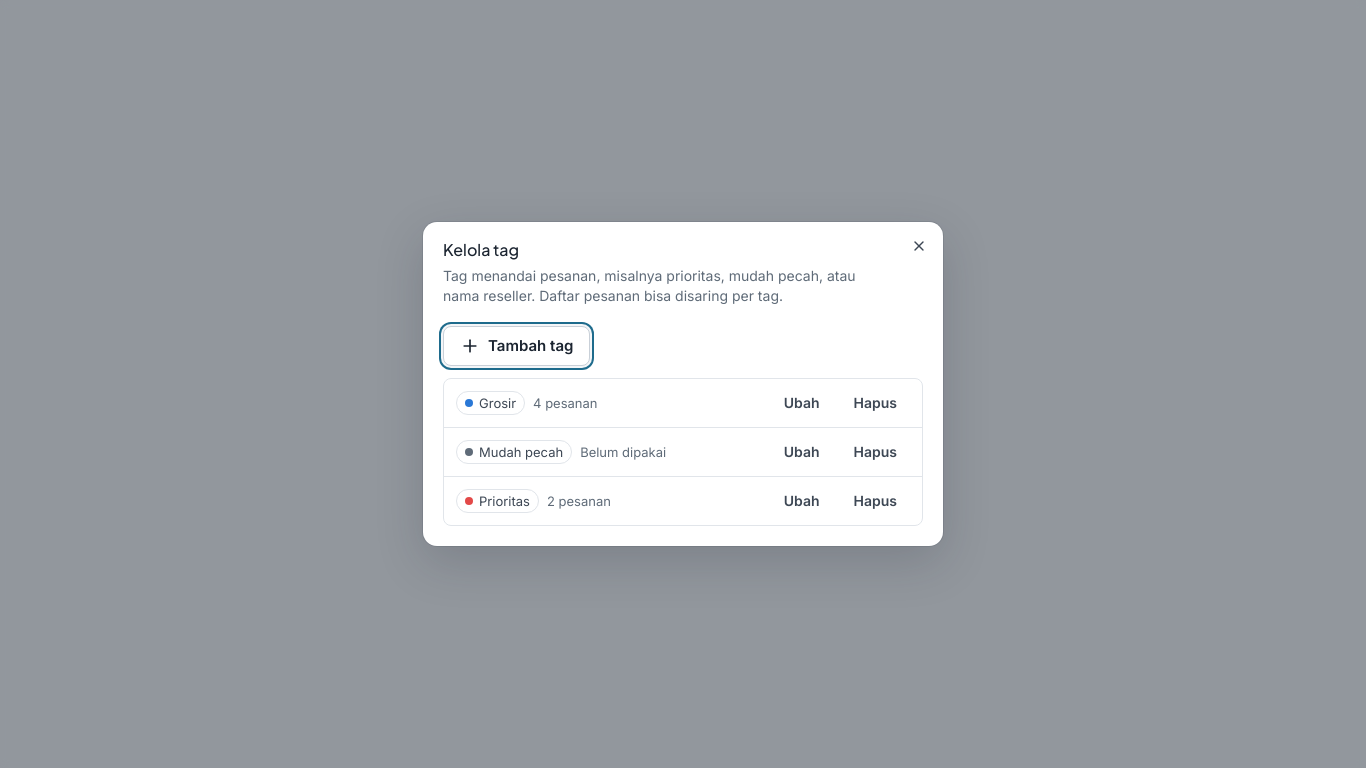
Test: Kelola tag › saves only what changed of a tag, and shows the api's refusal under the name
Expected: the text "Prioritas" is shown, [479, 492, 530, 510]
Click the button with aria-label "Ubah tag Prioritas" at (802, 501), box [771, 485, 832, 517]
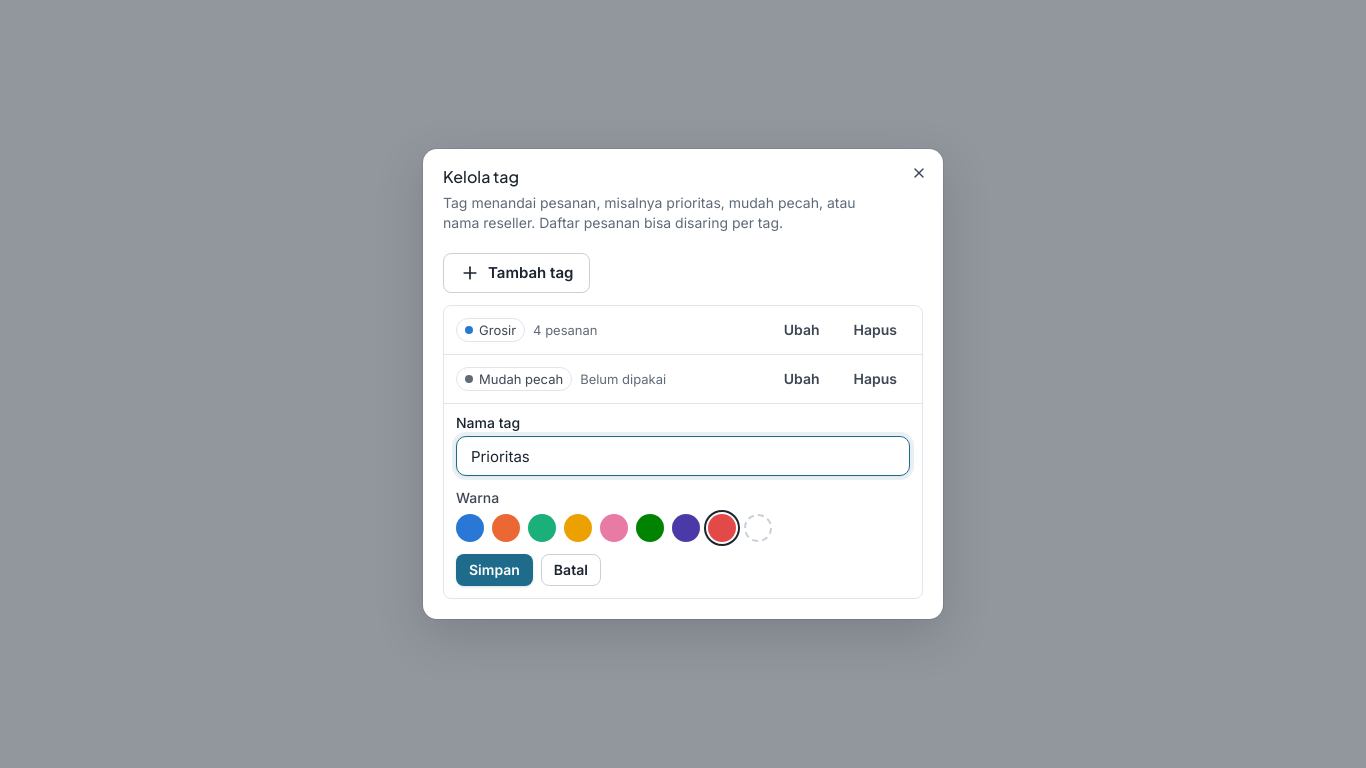
Click the radio button named "Tanpa warna" at (758, 528), box [744, 514, 772, 542]
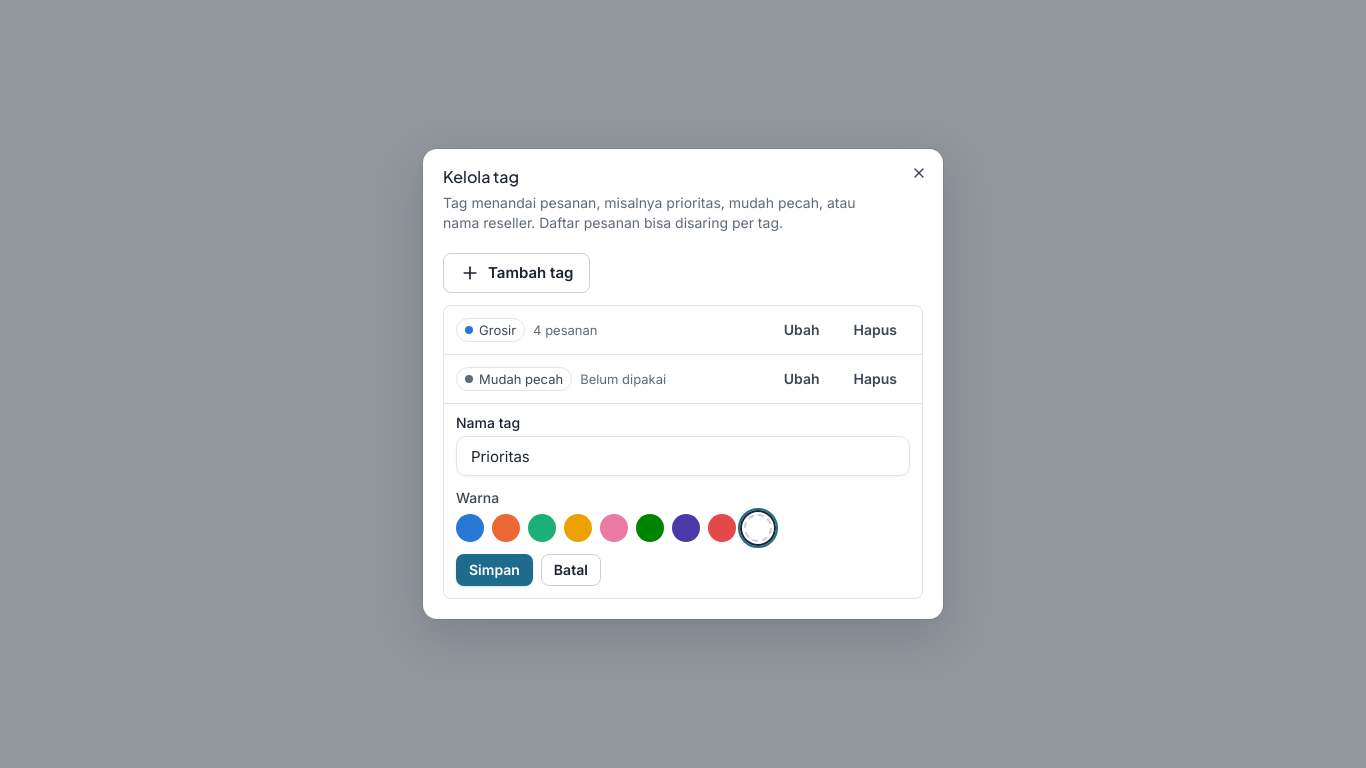
Click the button "Simpan" at (494, 570), box [456, 554, 533, 586]
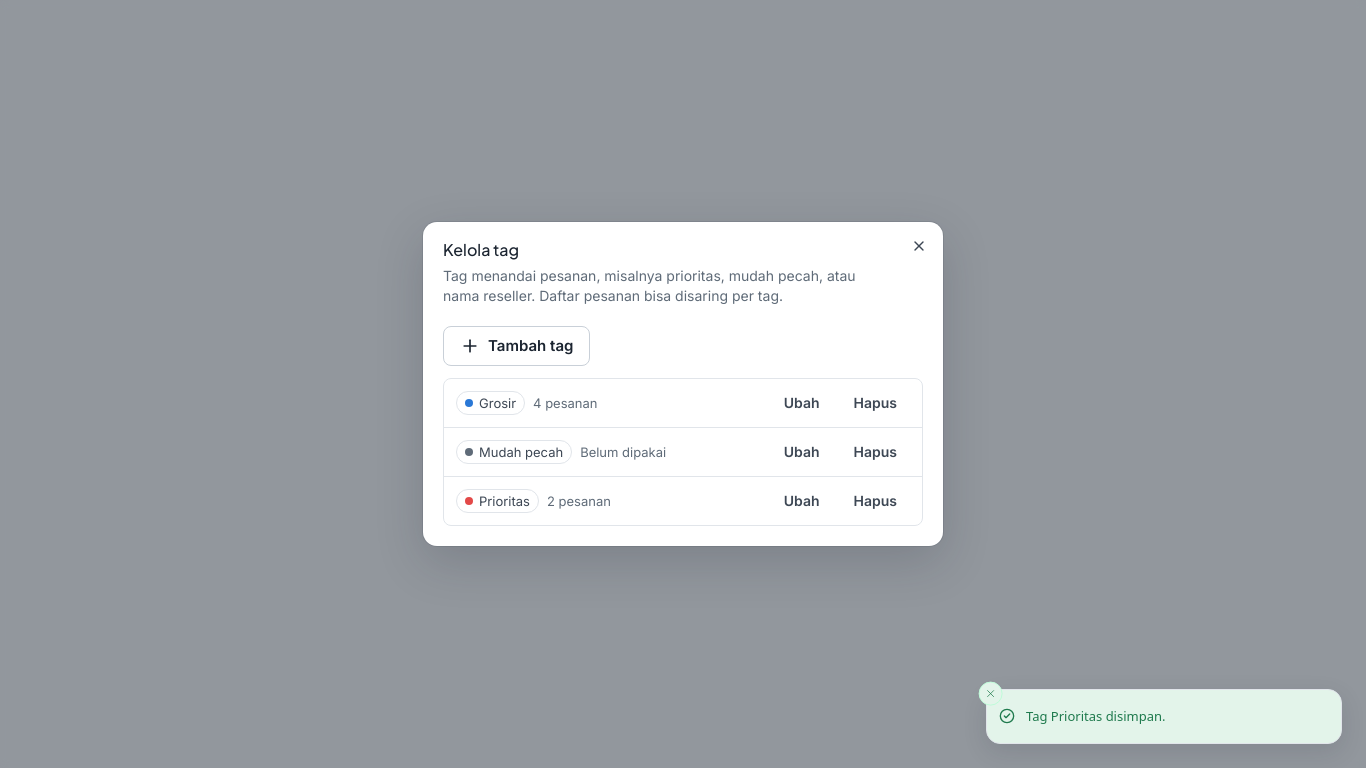
Click the button with aria-label "Ubah tag Prioritas" at (802, 501), box [771, 485, 832, 517]
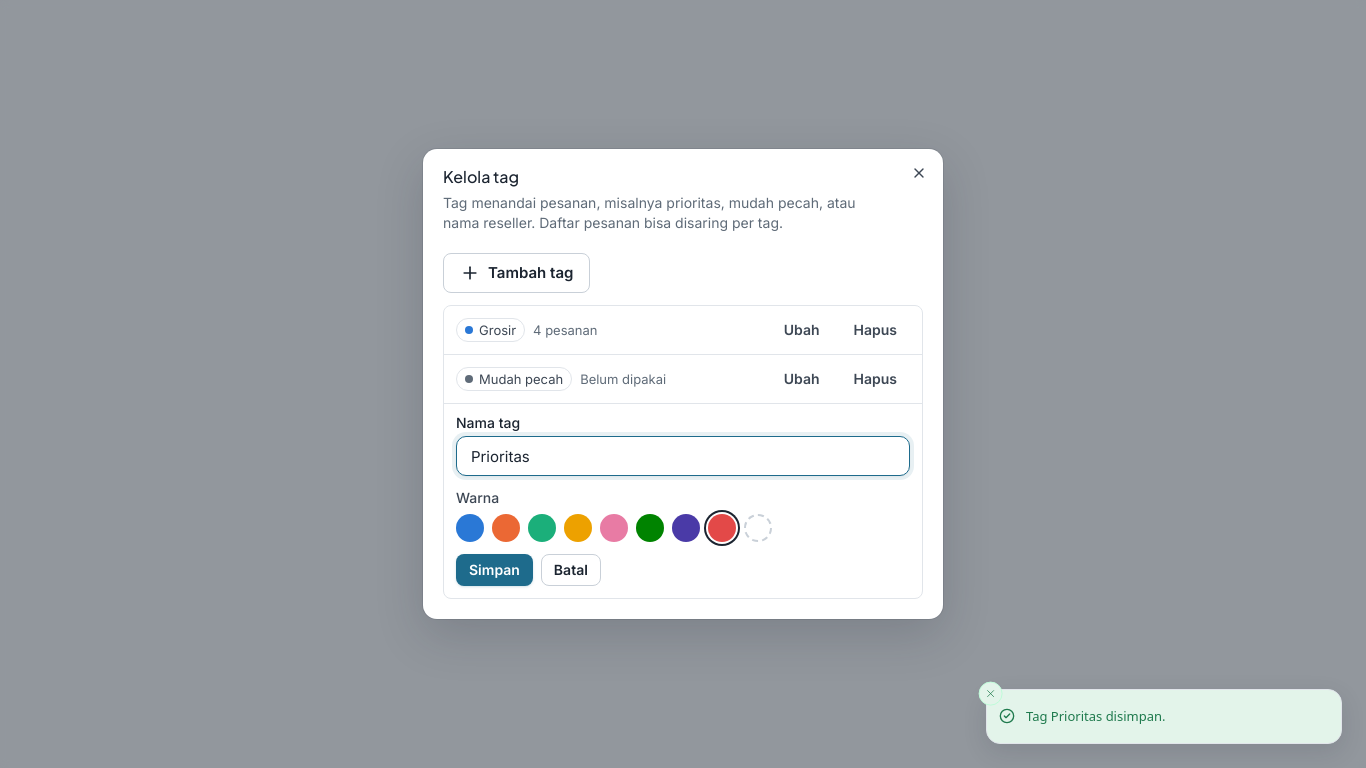
Replace the text in the field labelled "Nama tag" with "Kilat" at (683, 456), box [456, 436, 910, 476]
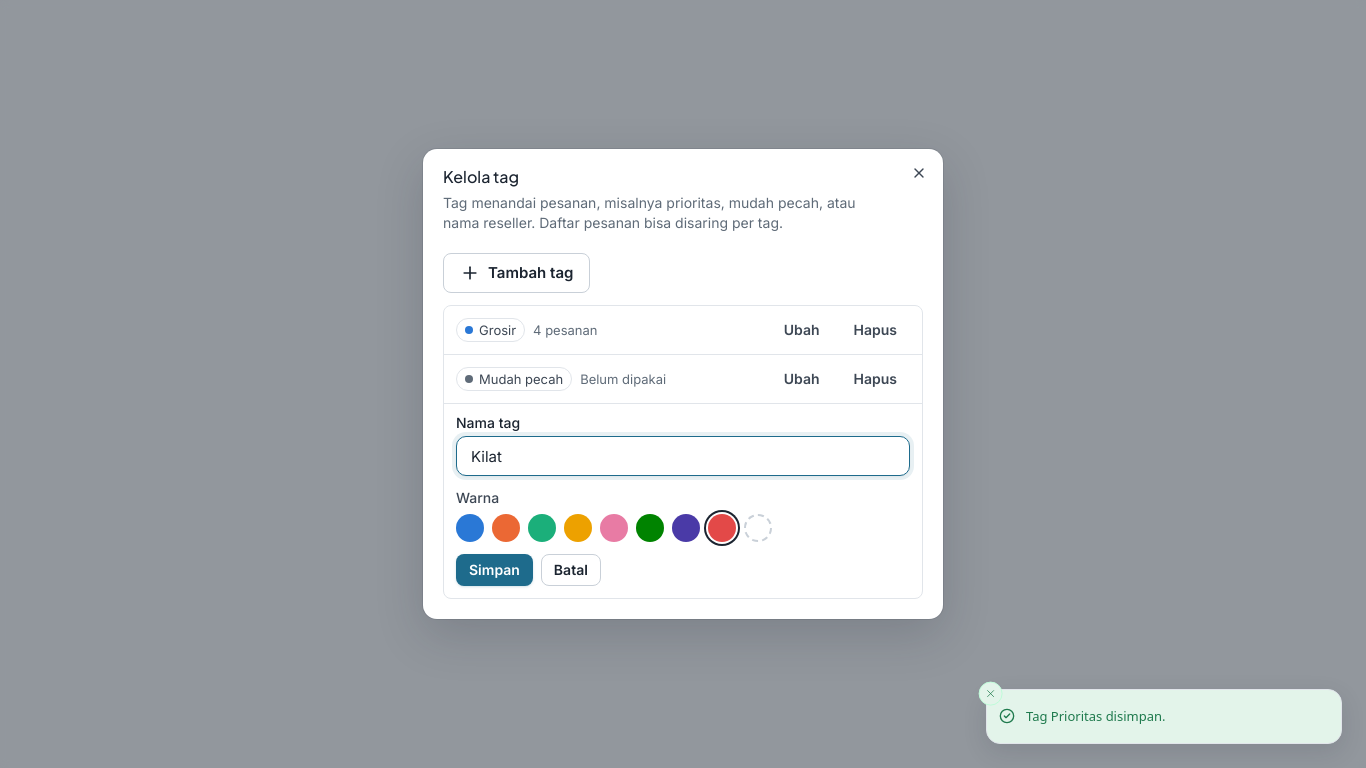
Click the button "Simpan" at (494, 570), box [456, 554, 533, 586]
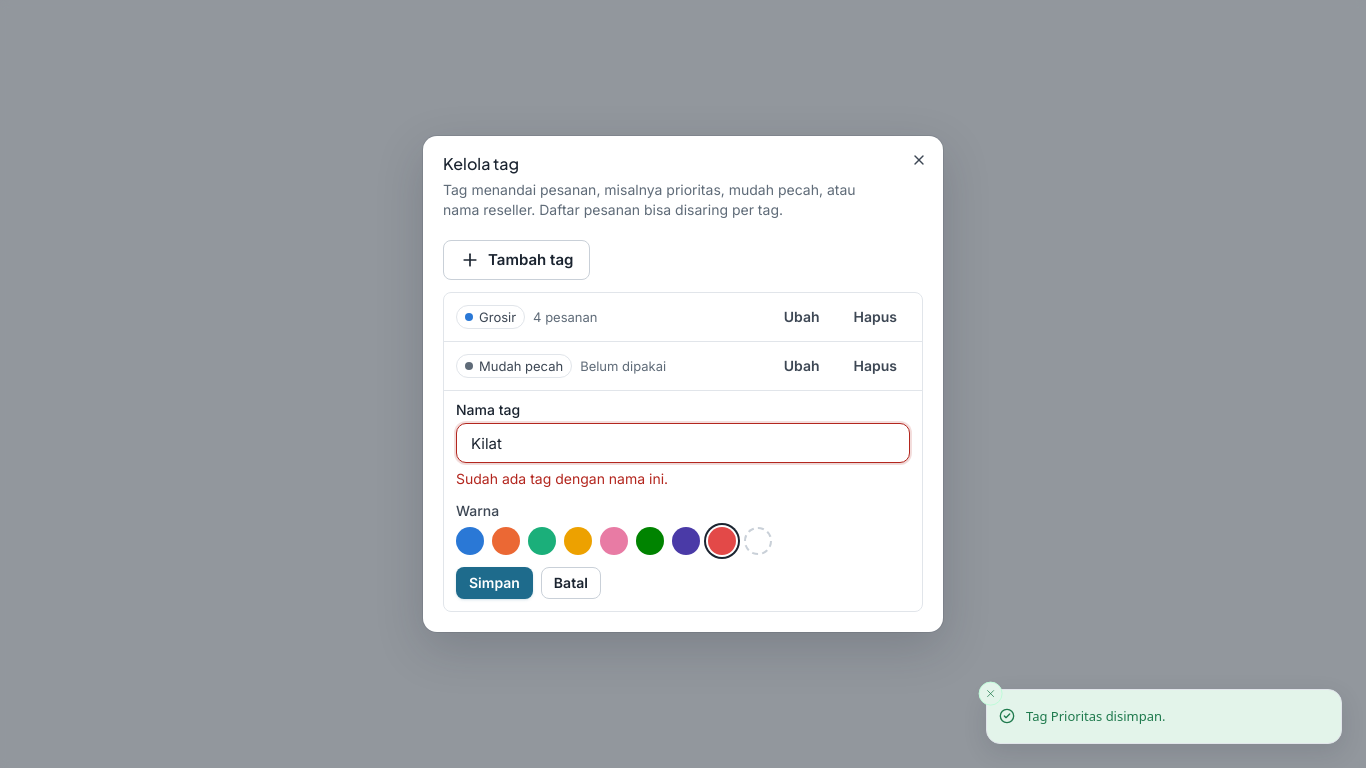
Expected: the message reads "Sudah ada tag dengan nama ini.", [456, 470, 668, 487]
